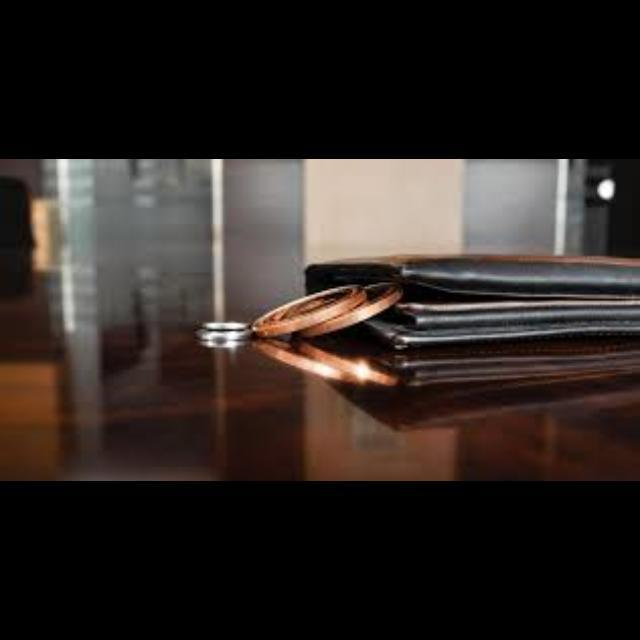wallet: (286, 238, 640, 398)
